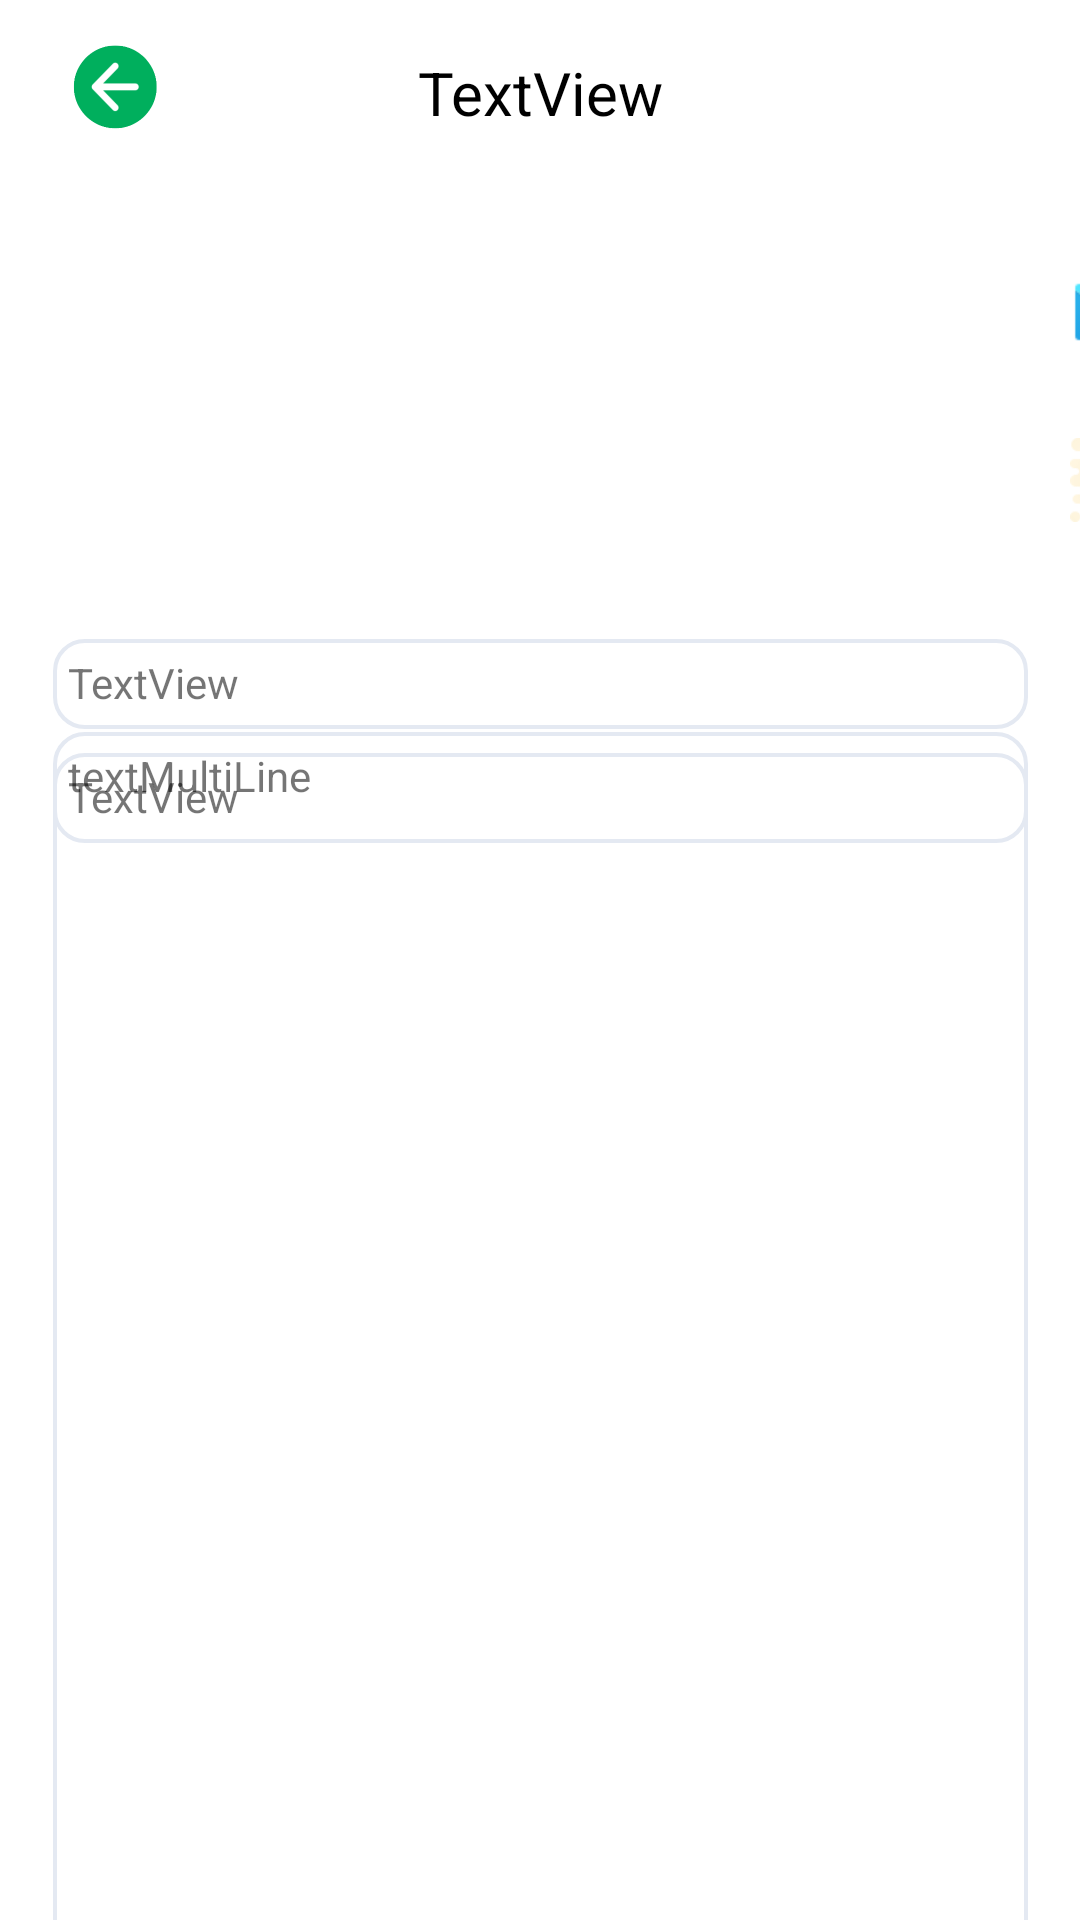

Icon bounding boxes for this 1080 × 1920 phone screenshot, format detection(x1, y1, x2, y2):
backbttn: detection(74, 45, 157, 129)
